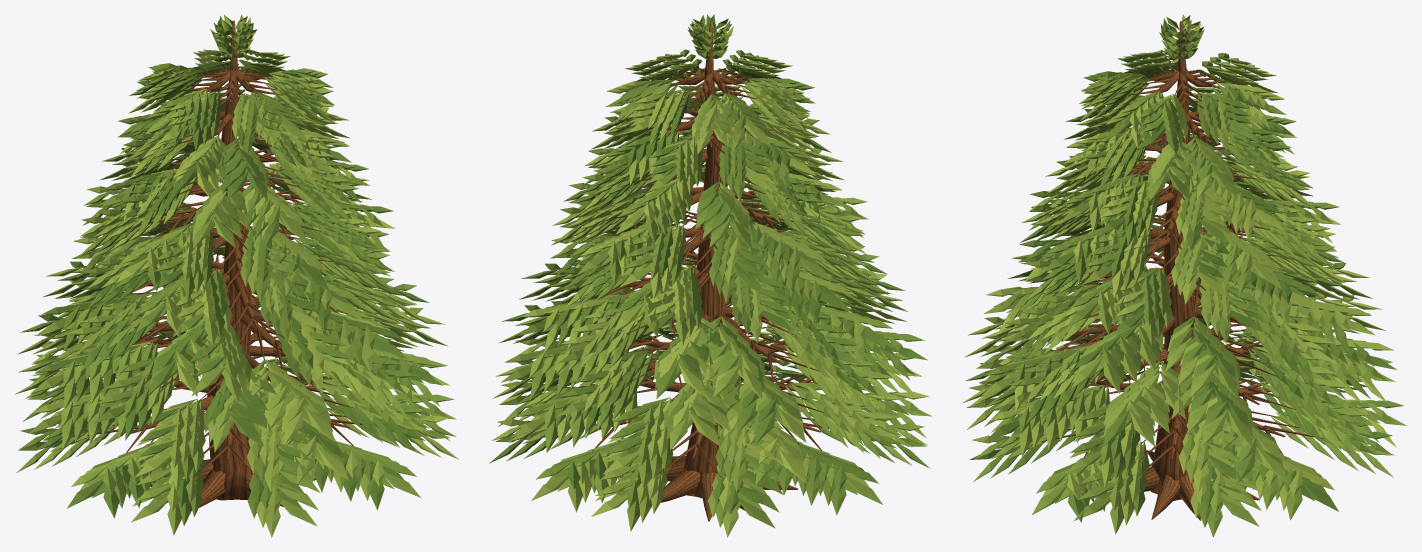
File: SculptedSpruce_LOD0.glb
3 renders of one model, left to right at view 1: azimuth 30°, elevation 25°; view 2: azimuth 150°, elevation 25°; view 3: azimuth 270°, elevation 25°, orthographic.
Parts seen in each view (by area): view 1: SM_SculptedSpruce_Foliage_LOD0, SM_SculptedSpruce_Bark_LOD0; view 2: SM_SculptedSpruce_Foliage_LOD0, SM_SculptedSpruce_Bark_LOD0; view 3: SM_SculptedSpruce_Foliage_LOD0, SM_SculptedSpruce_Bark_LOD0.
Part boxes in pixels (x1,y1,x2,y2): SM_SculptedSpruce_Foliage_LOD0: [15, 14, 458, 537]; SM_SculptedSpruce_Bark_LOD0: [87, 20, 376, 507]; SM_SculptedSpruce_Foliage_LOD0: [489, 14, 931, 537]; SM_SculptedSpruce_Bark_LOD0: [569, 21, 857, 521]; SM_SculptedSpruce_Foliage_LOD0: [962, 14, 1406, 537]; SM_SculptedSpruce_Bark_LOD0: [1041, 21, 1323, 520].
Bounding box in the file's own units: 7.64 × 8.65 × 7.53.
2 materials, 2 textured.
